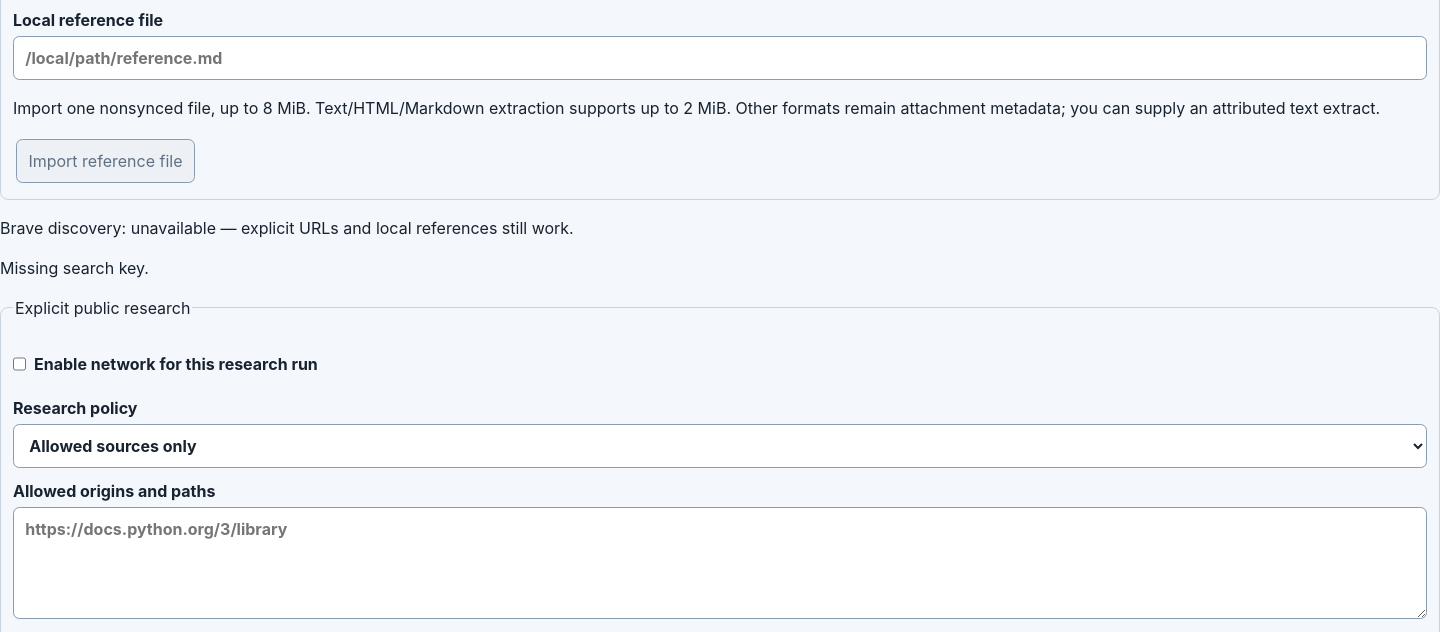
Test: allows offline local references and explicit URLs when discovery is unavailable
Expected: the text "Brave discovery: unavailable" is shown, [0, 218, 574, 238]
Type "/local/reference.md" into the field labelled "Local reference file".
click(720, 58); type("/local/reference.md")  # box [13, 36, 1427, 80]
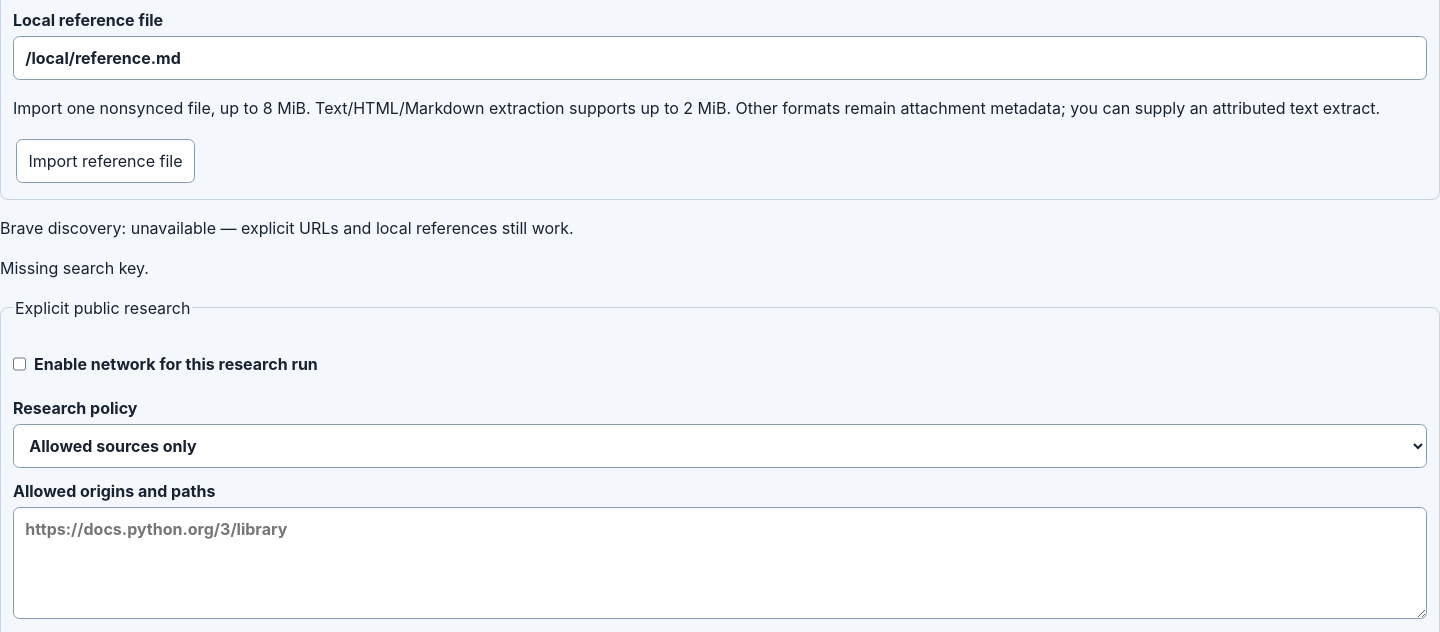
Click the button "Import reference file".
click(105, 161)  # box [16, 139, 195, 183]
(page scrolled)
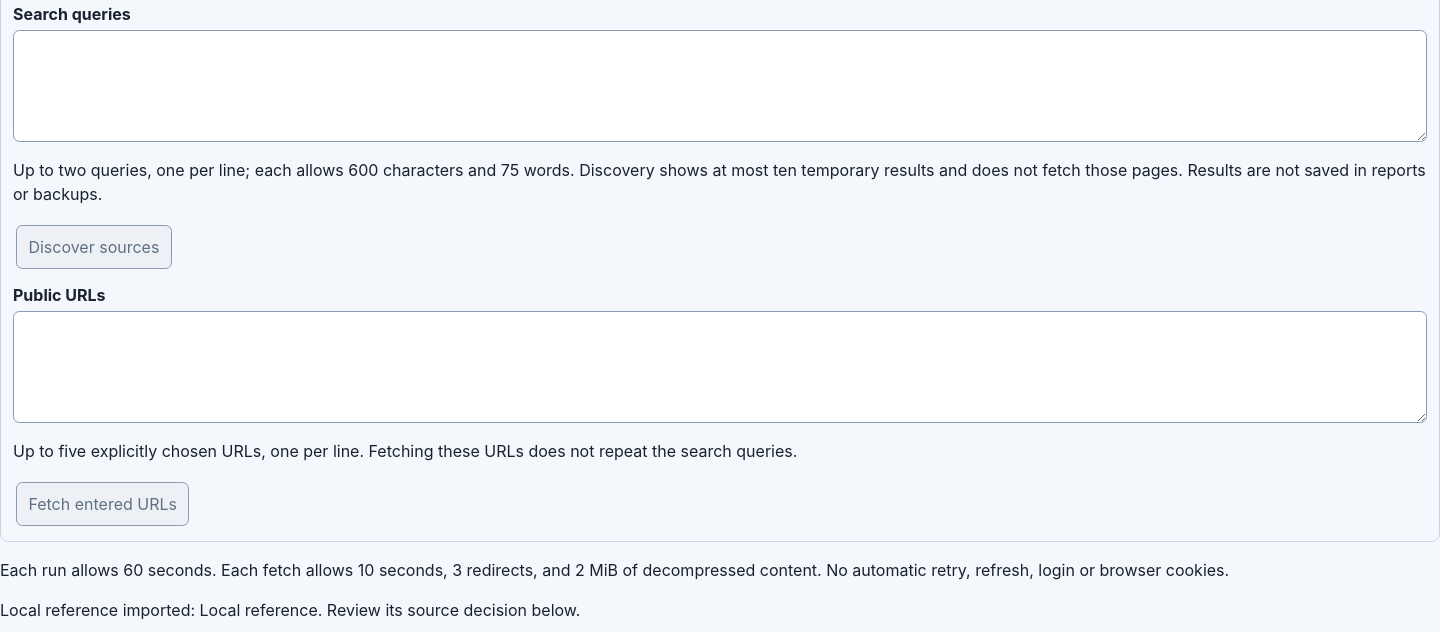
Result: the text "Local reference imported: Local reference. Review its source decision below." is shown at [0, 600, 580, 620]
Type "https://docs.example.org/python" into the text box labelled "Public URLs".
click(720, 367); type("https://docs.example.org/python")  # box [13, 311, 1427, 423]
(page scrolled)
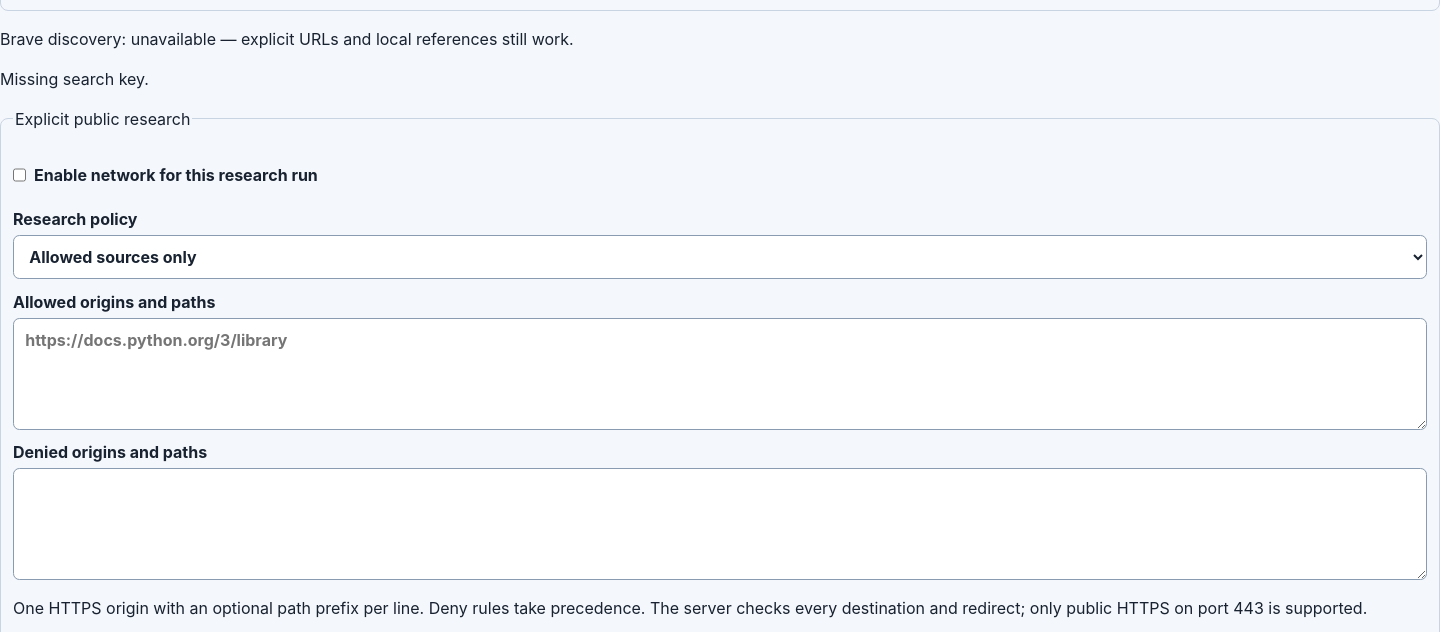
Select "Public web" in the dropdown labelled "Research policy" at coordinates (720, 257), box [13, 235, 1427, 279]
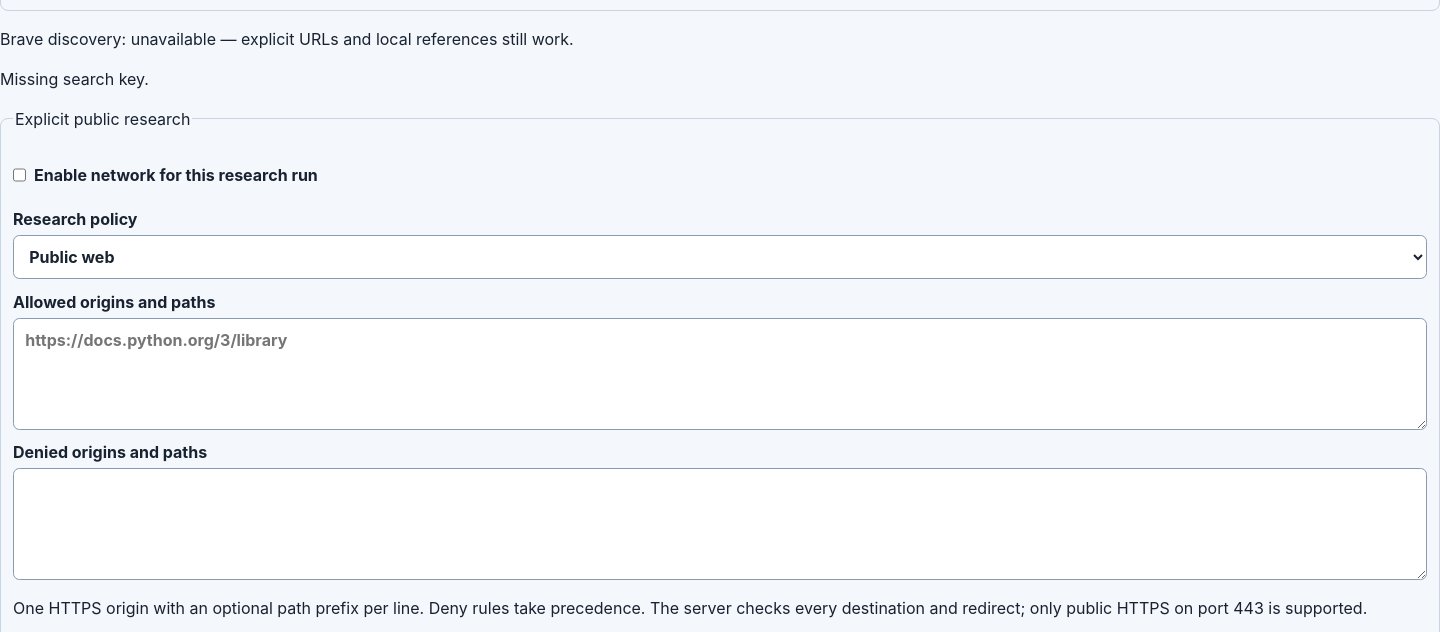
Click the checkbox labelled "Enable network for this research run".
click(20, 175)  # box [13, 153, 26, 197]
(page scrolled)
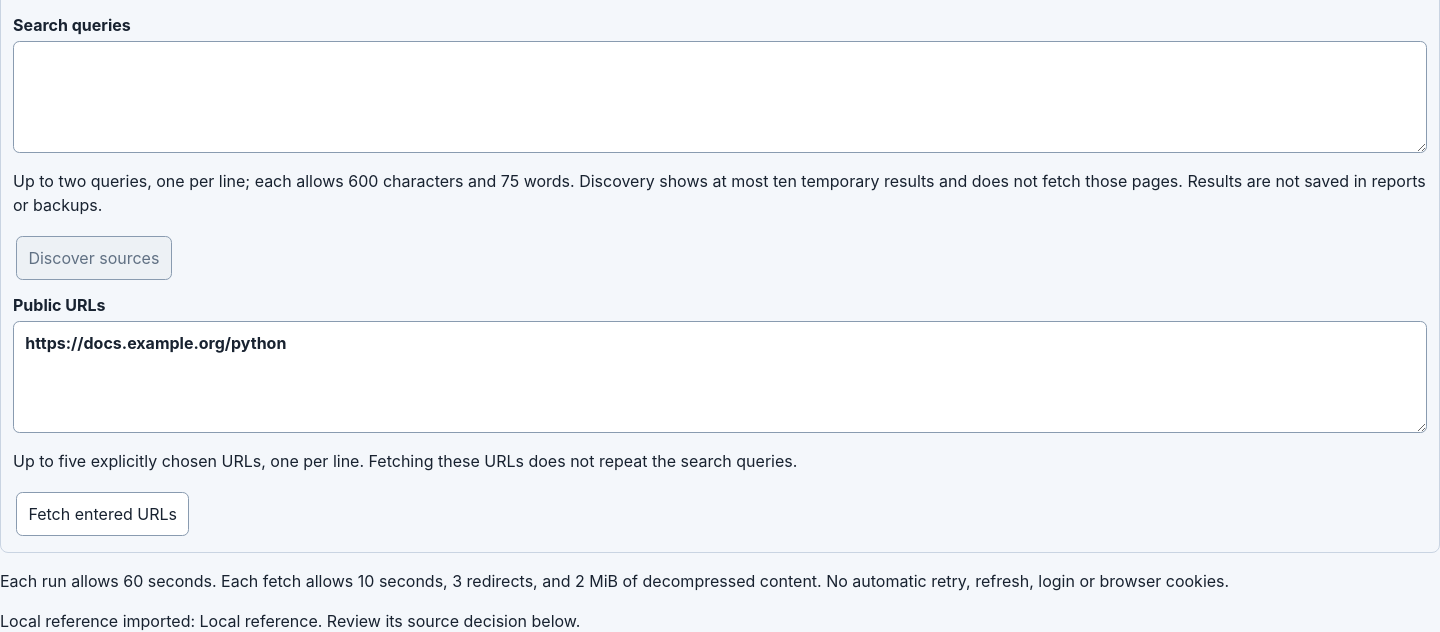
Expected: the button "Discover sources" is disabled, [16, 236, 172, 280]
Result: the button "Fetch entered URLs" is enabled at [16, 492, 189, 536]
